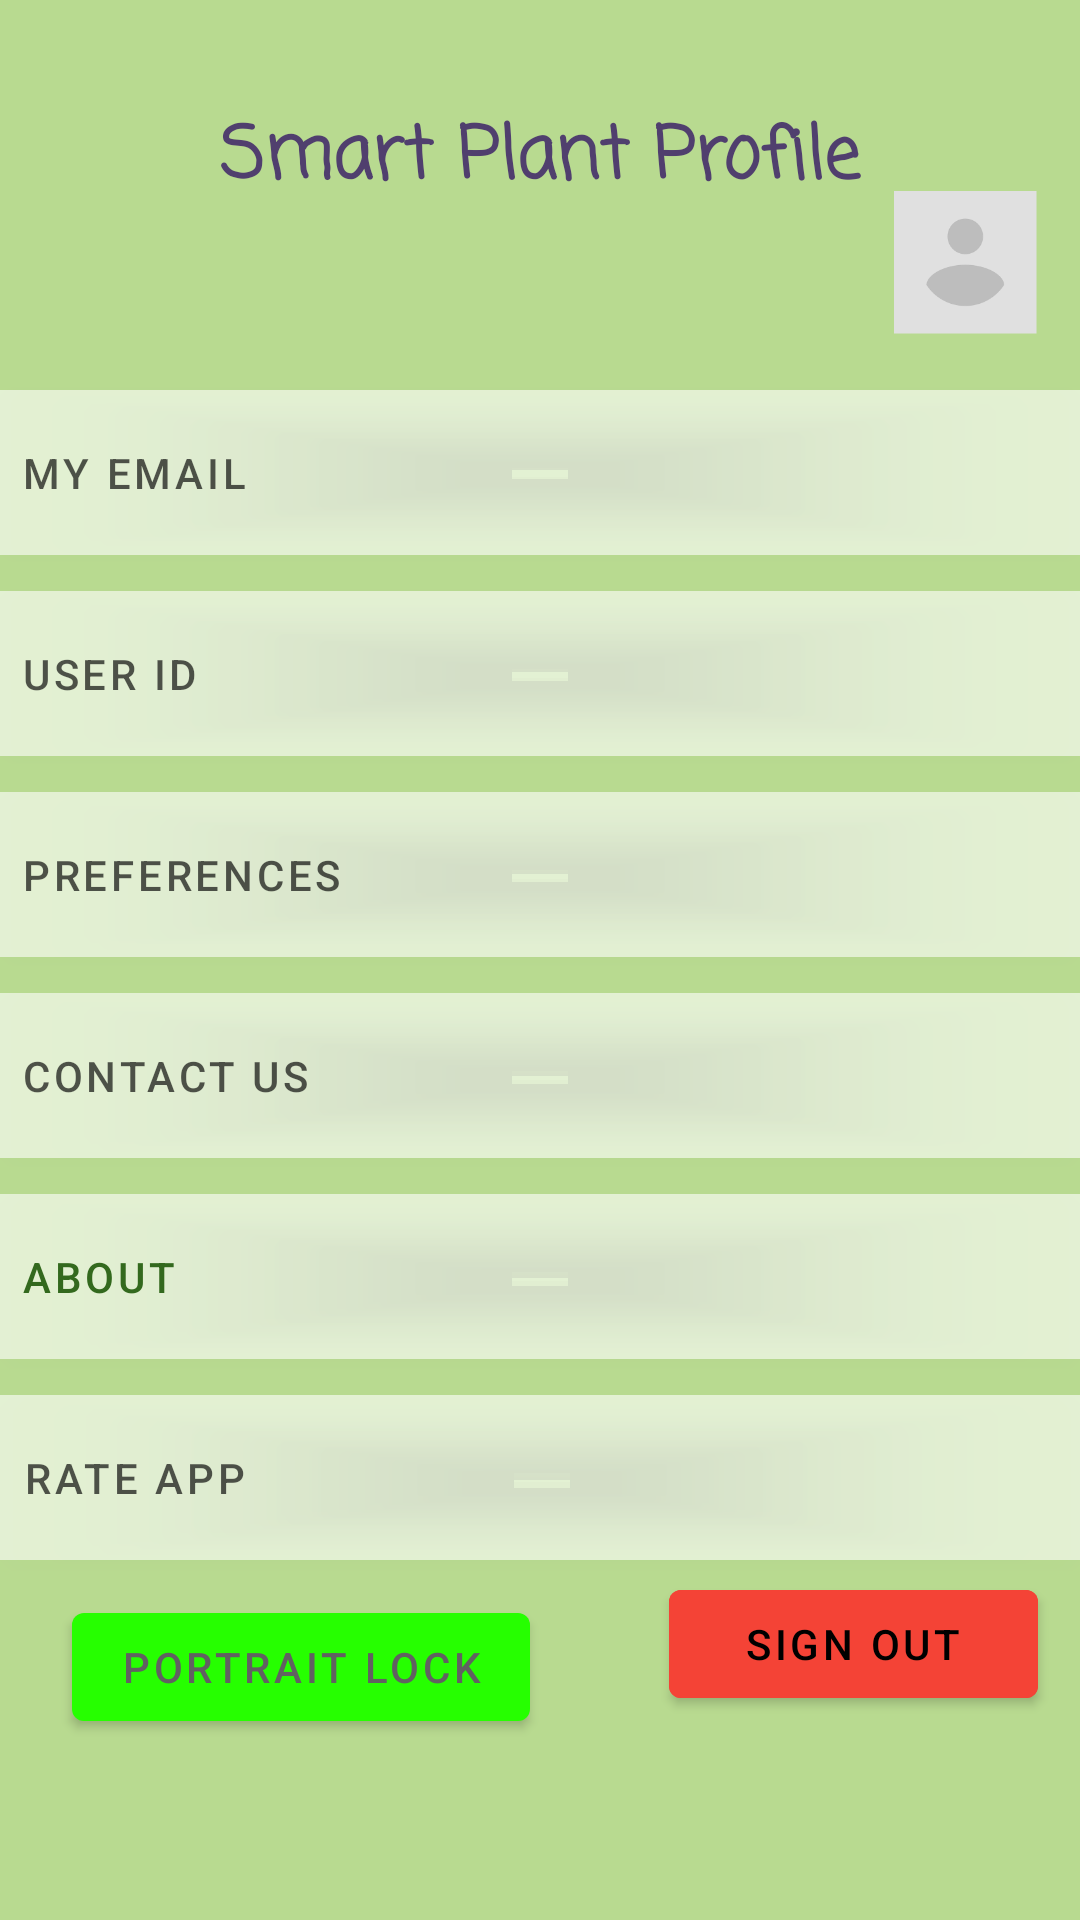

Point at icon controls on the screen. Image size 1080 x 1920, points as (x=x, y=y).
accavatar: (x=965, y=262)
